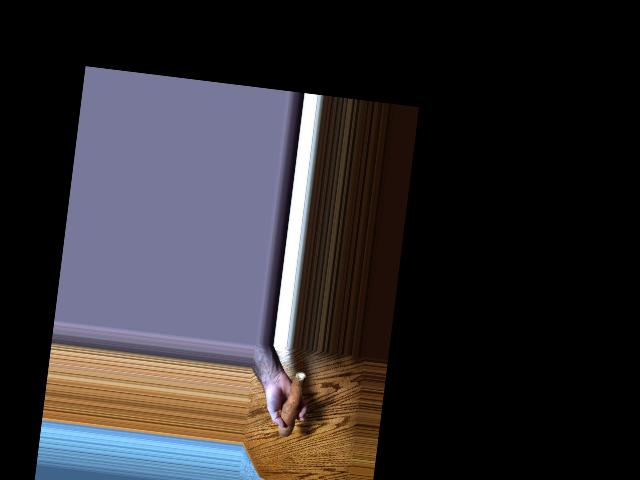sweet_potato: (277, 371, 304, 437)
